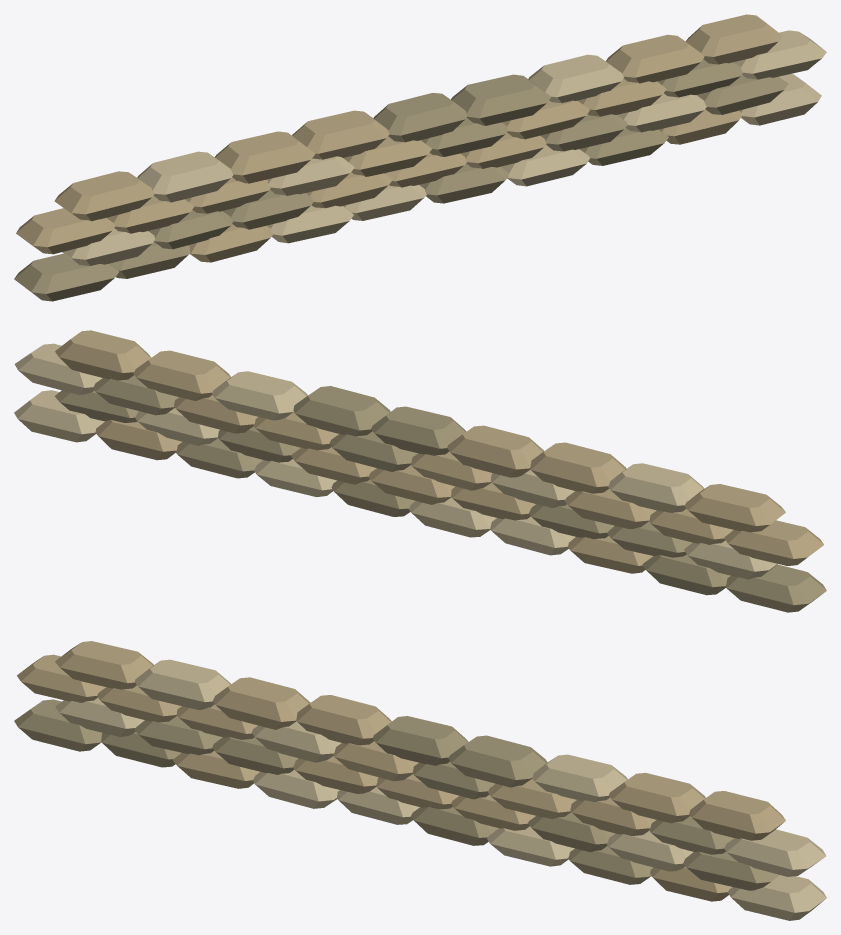
File: sandbag_wall.glb
3 renders of one model, top to bottom at view 1: azimuth 30°, elevation 25°; view 2: azimuth 150°, elevation 25°; view 3: azimuth 330°, elevation 25°, orthographic.
Parts seen in each view (by area): view 1: sandbag_wall; view 2: sandbag_wall; view 3: sandbag_wall.
Part boxes in pixels (left/top/right/bottom): sandbag_wall: left=14, top=14, right=826, bottom=301; sandbag_wall: left=14, top=330, right=826, bottom=612; sandbag_wall: left=14, top=641, right=826, bottom=920.
Size of the model in its own units: 4.76 by 0.5516 by 0.3434.
